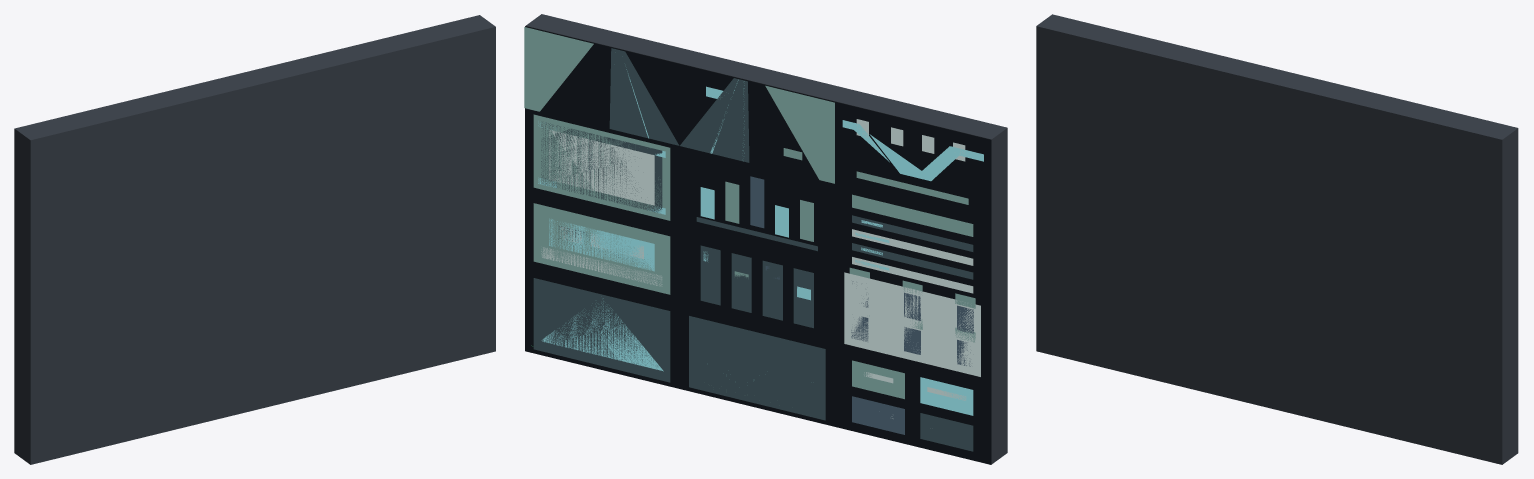
File: monitor-wall.glb
3 views of the same model, side by side, from view 1: azimuth 30°, elevation 25°; view 2: azimuth 150°, elevation 25°; view 3: azimuth 330°, elevation 25° (orthographic).
Visible parts, largest first — view 1: MonitorWall; view 2: MonitorWall, monitor-view-0, monitor-view-8, monitor-view-2, monitor-view-11, monitor-view-1, monitor-view-5, monitor-view-6, monitor-view-9, monitor-view-7, monitor-view-10, monitor-view-3 (+1 smaller); view 3: MonitorWall.
Boxes of the visible parts, x1,y1,x2,y2 form: MonitorWall: (14, 15, 495, 464); MonitorWall: (526, 14, 1007, 464); monitor-view-0: (524, 26, 680, 145); monitor-view-8: (835, 264, 991, 383); monitor-view-2: (835, 102, 991, 220); monitor-view-11: (835, 346, 991, 464); monitor-view-1: (680, 64, 835, 183); monitor-view-5: (835, 183, 991, 302); monitor-view-6: (525, 188, 680, 307); monitor-view-9: (525, 270, 680, 388); monitor-view-7: (680, 226, 835, 345); monitor-view-10: (680, 308, 835, 426); monitor-view-3: (525, 108, 680, 226); MonitorWall: (1036, 14, 1518, 464).
Bounding box in the file's own units: 3 × 2 × 0.195.
